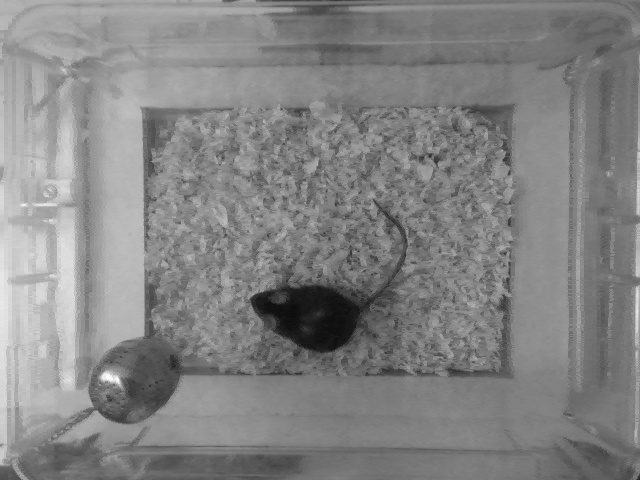mice: (243, 196, 408, 357)
